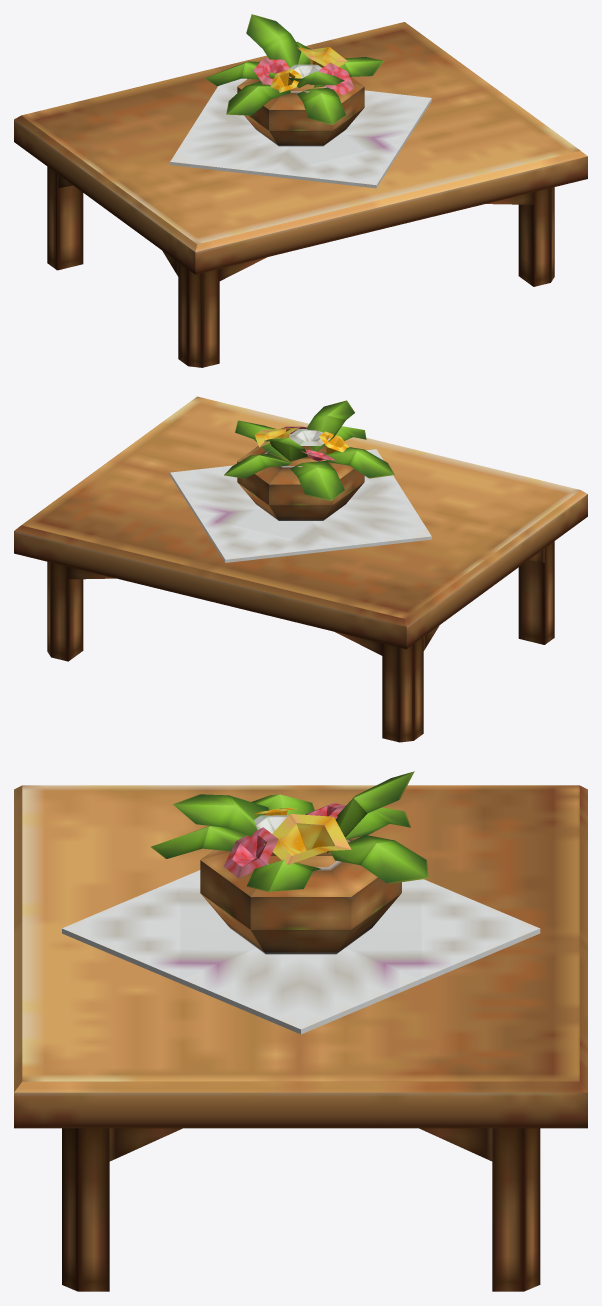
The model's file is Inside_Poly_Table_06.obj.
The picture shows the model from 3 angles, top to bottom: view 1: azimuth 30°, elevation 25°; view 2: azimuth 150°, elevation 25°; view 3: azimuth 270°, elevation 25°; orthographic projection. The views are drawn at different scales.
Visible parts, largest first — view 1: Cube, Plane, Cube.001, Leaves, Vase, Cube.002, Vase.001, Vase.003, Vase.005, Vase.002; view 2: Cube, Plane, Cube.001, Leaves, Vase, Cube.002, Vase.004, Vase.001; view 3: Cube, Plane, Cube.001, Vase, Leaves, Vase.001, Cube.002, Vase.005.
Part boxes in pixels (bbox=[...]): Cube: bbox=[14, 22, 587, 274]; Plane: bbox=[170, 78, 431, 188]; Cube.001: bbox=[47, 166, 554, 367]; Leaves: bbox=[205, 14, 384, 124]; Vase: bbox=[237, 64, 364, 146]; Cube.002: bbox=[57, 174, 533, 280]; Vase.001: bbox=[297, 47, 347, 70]; Vase.003: bbox=[253, 58, 289, 84]; Vase.005: bbox=[319, 62, 354, 95]; Vase.002: bbox=[270, 68, 301, 92]; Cube: bbox=[14, 396, 587, 649]; Plane: bbox=[170, 449, 431, 562]; Cube.001: bbox=[47, 541, 554, 742]; Leaves: bbox=[224, 400, 394, 500]; Vase: bbox=[237, 445, 364, 520]; Cube.002: bbox=[68, 548, 544, 655]; Vase.004: bbox=[288, 429, 330, 445]; Vase.001: bbox=[254, 427, 300, 447]; Cube: bbox=[14, 785, 587, 1128]; Plane: bbox=[62, 870, 540, 1034]; Cube.001: bbox=[62, 1128, 540, 1291]; Vase: bbox=[200, 836, 401, 954]; Leaves: bbox=[151, 771, 428, 891]; Vase.001: bbox=[264, 813, 351, 864]; Cube.002: bbox=[109, 1128, 492, 1161]; Vase.005: bbox=[223, 827, 278, 878].
Bounding box in the file's own units: 1.5 × 0.8503 × 1.2.
1 material, 1 textured.
